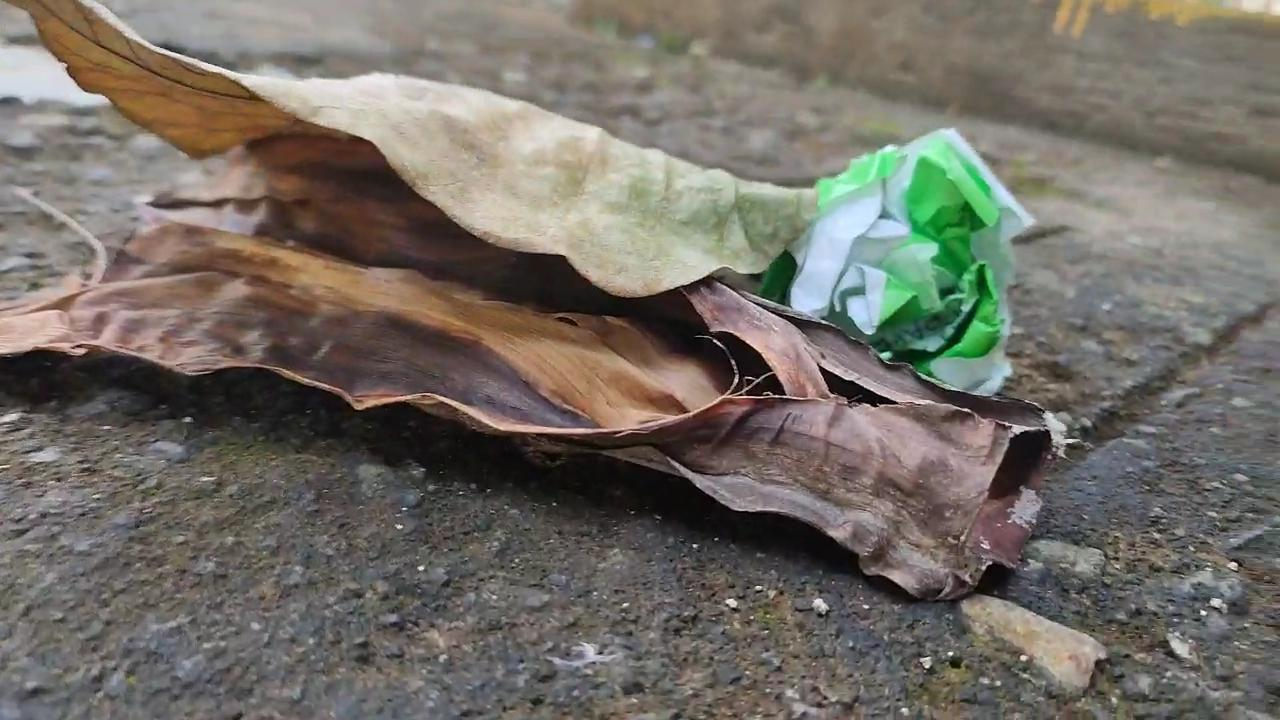Paper: (773, 113, 1029, 391)
